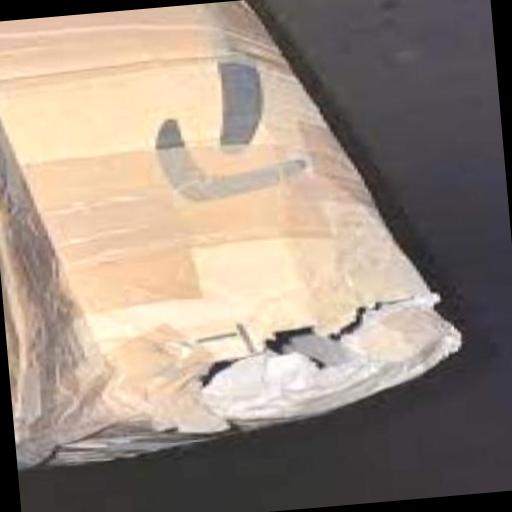torn: (2, 117, 480, 501)
